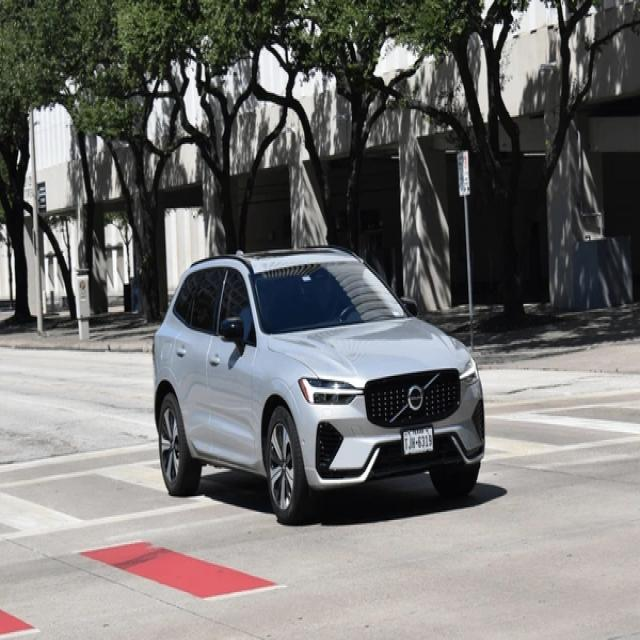volvo: (405, 387, 428, 410)
